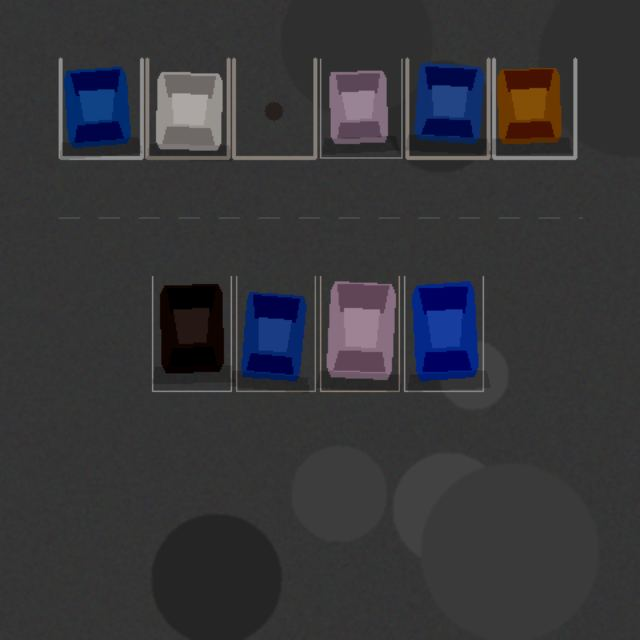space-empty: (233, 59, 315, 157)
space-occupied: (152, 276, 231, 391), (236, 276, 315, 391), (320, 276, 399, 391), (404, 276, 483, 391), (493, 59, 575, 157), (60, 59, 141, 157), (147, 59, 228, 157), (320, 59, 401, 157), (407, 59, 488, 157)
